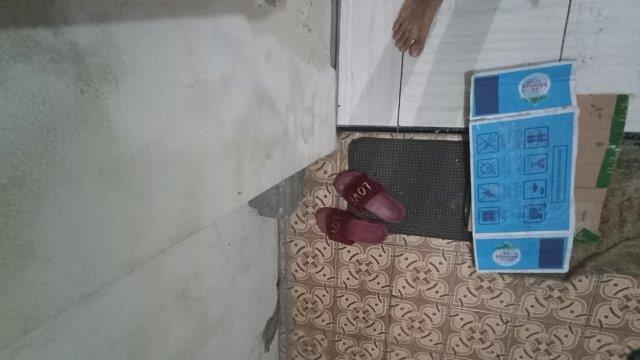kardus: (470, 63, 628, 273)
